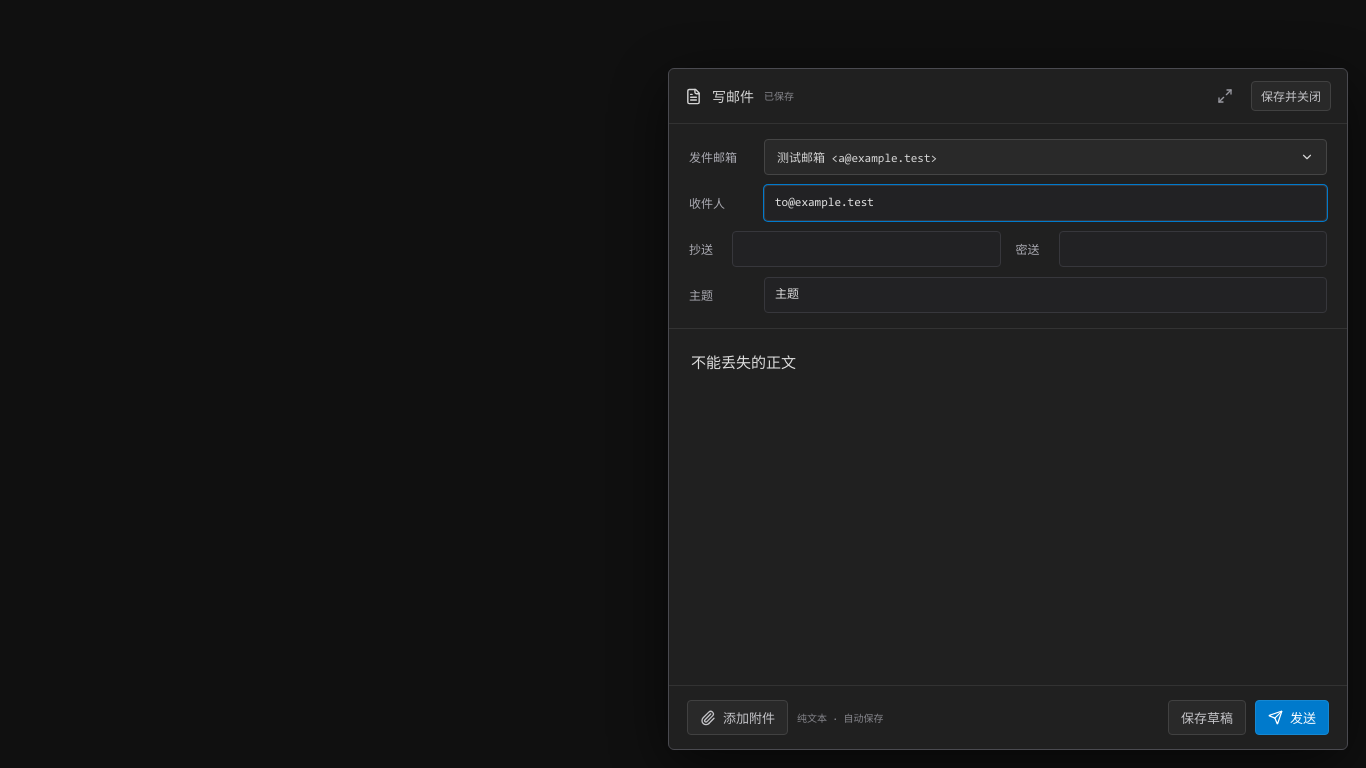
Test case: 草稿与发送的并发边界 › 保存失败时保留编辑并阻止发送
Click the button "发送" at [1292, 718], box [1255,700,1329,735]
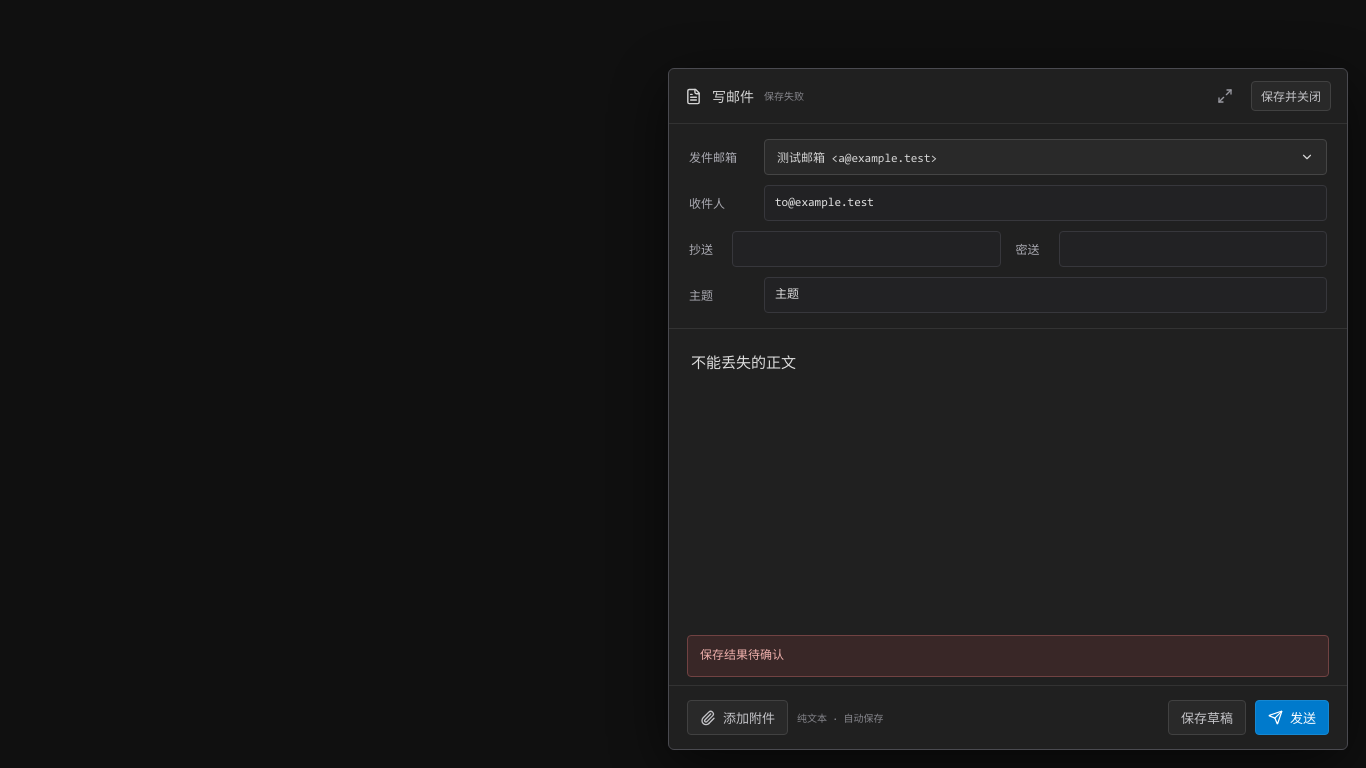
Expected: the text box named "纯文本正文" holds "不能丢失的正文", [669,328,1347,627]
Now the message "保存结果待确认" is shown, box [687,635,1329,677]
